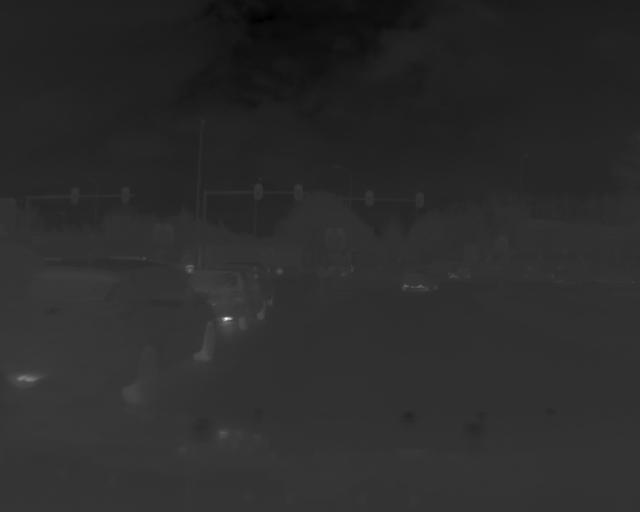car: (1, 256, 221, 405), (401, 268, 437, 295)
